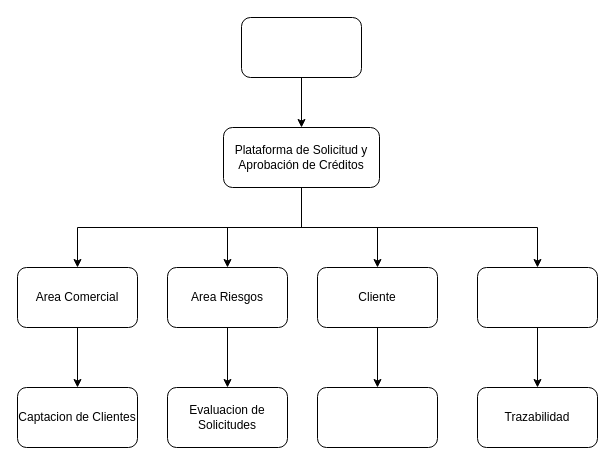
Image size: 615x465. Some labels were removed from this diagram. Here are the shapes that lost their labels. From the top down, the centre of each, then its label:
[301,47]: Dirección Tecnología
[537,297]: Auditoria
[377,417]: Solicitar y consultar credito
